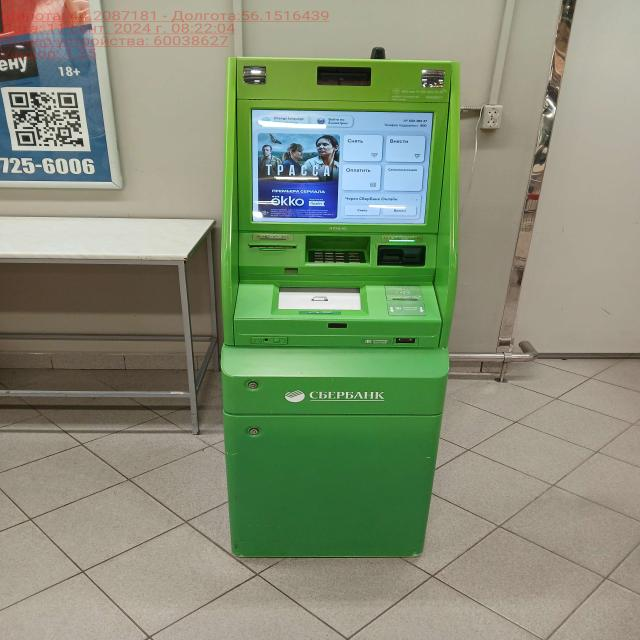bank: (201, 56, 464, 562)
